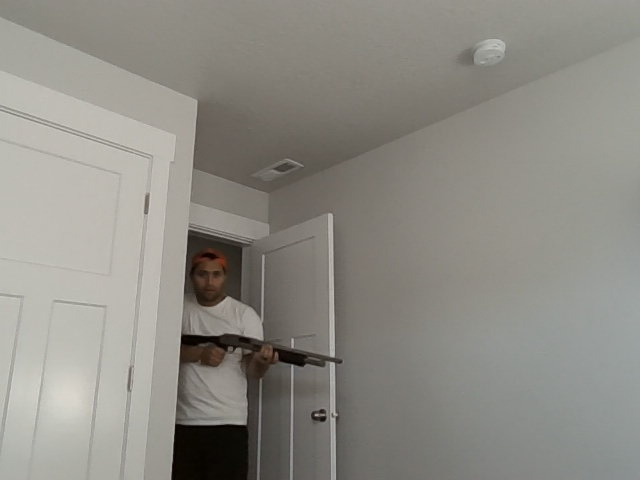shotgun: (182, 329, 344, 372)
